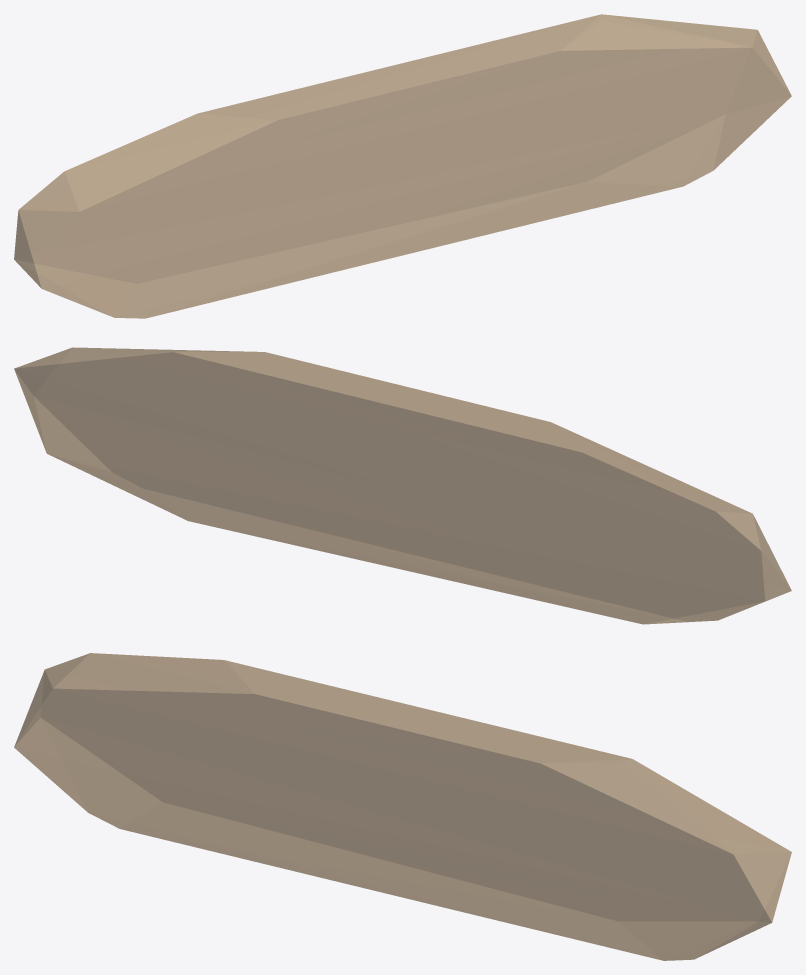
The picture shows the model from 3 angles, top to bottom: view 1: azimuth 30°, elevation 25°; view 2: azimuth 150°, elevation 25°; view 3: azimuth 330°, elevation 25°; orthographic projection.
Parts seen in each view (by area): view 1: Shape_IndexedFaceSet.178_Shape_IndexedFaceSet.607; view 2: Shape_IndexedFaceSet.178_Shape_IndexedFaceSet.607; view 3: Shape_IndexedFaceSet.178_Shape_IndexedFaceSet.607.
Boxes of the visible parts, x1=… form: Shape_IndexedFaceSet.178_Shape_IndexedFaceSet.607: x1=14, y1=14, x2=791, y2=318; Shape_IndexedFaceSet.178_Shape_IndexedFaceSet.607: x1=14, y1=347, x2=791, y2=624; Shape_IndexedFaceSet.178_Shape_IndexedFaceSet.607: x1=14, y1=653, x2=791, y2=960.
Bounding box in the file's own units: 0.3294 × 0.0704 × 0.0206.
